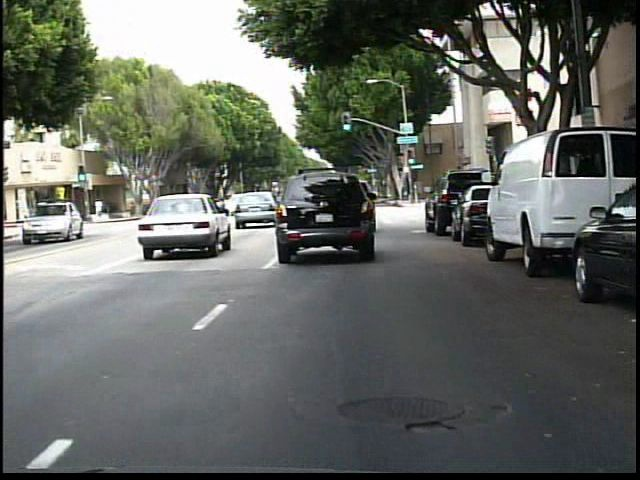person: (94, 197, 106, 222)
